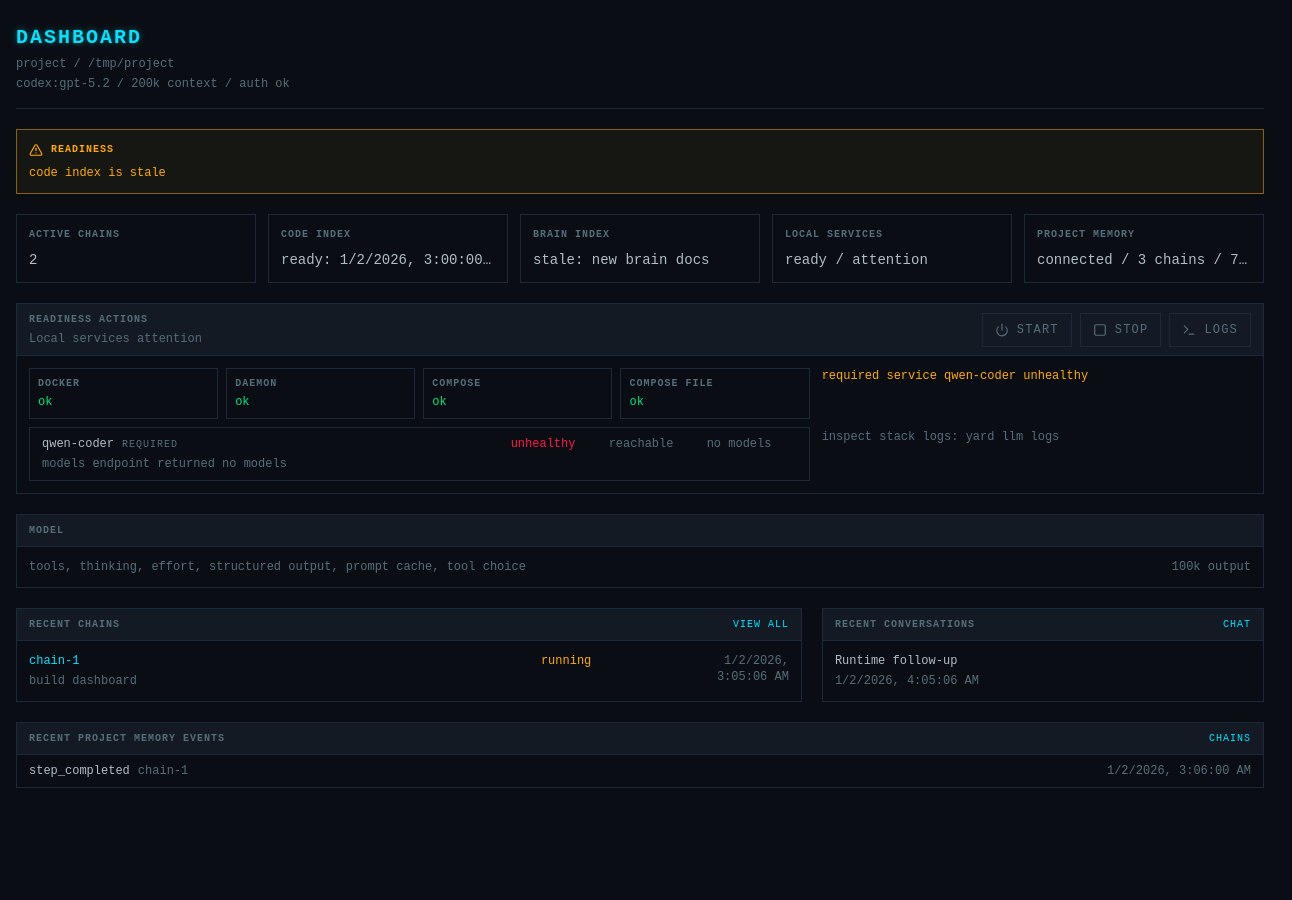
DashboardPage › runs local service readiness actions
Click the button "Start" at (1027, 330), box top-left (982, 312), bottom-right (1072, 346)
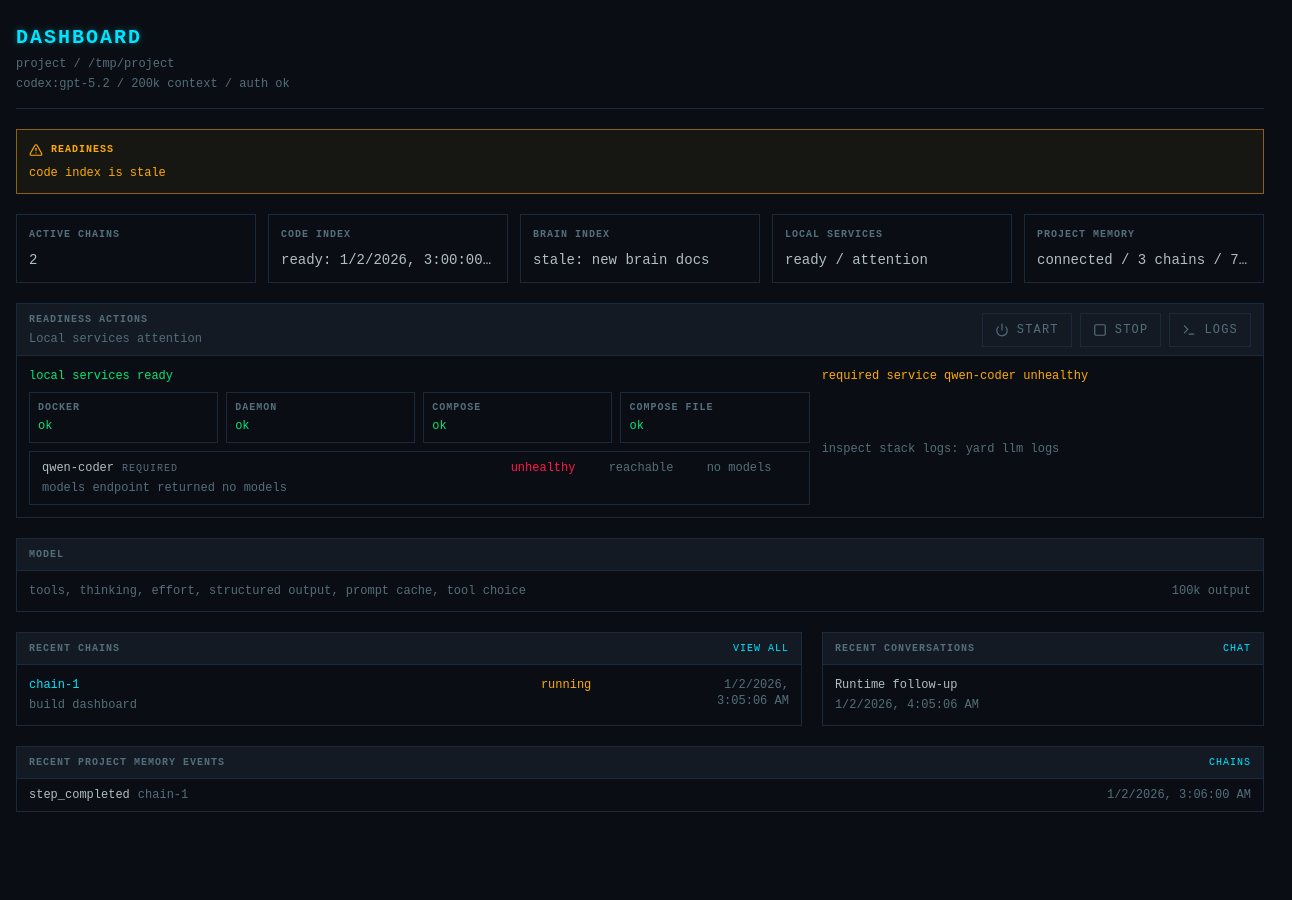
Check: the text "local services ready" is shown, box top-left (29, 369), bottom-right (173, 383)
Click the button "Logs" at (1210, 330), box top-left (1169, 312), bottom-right (1251, 346)
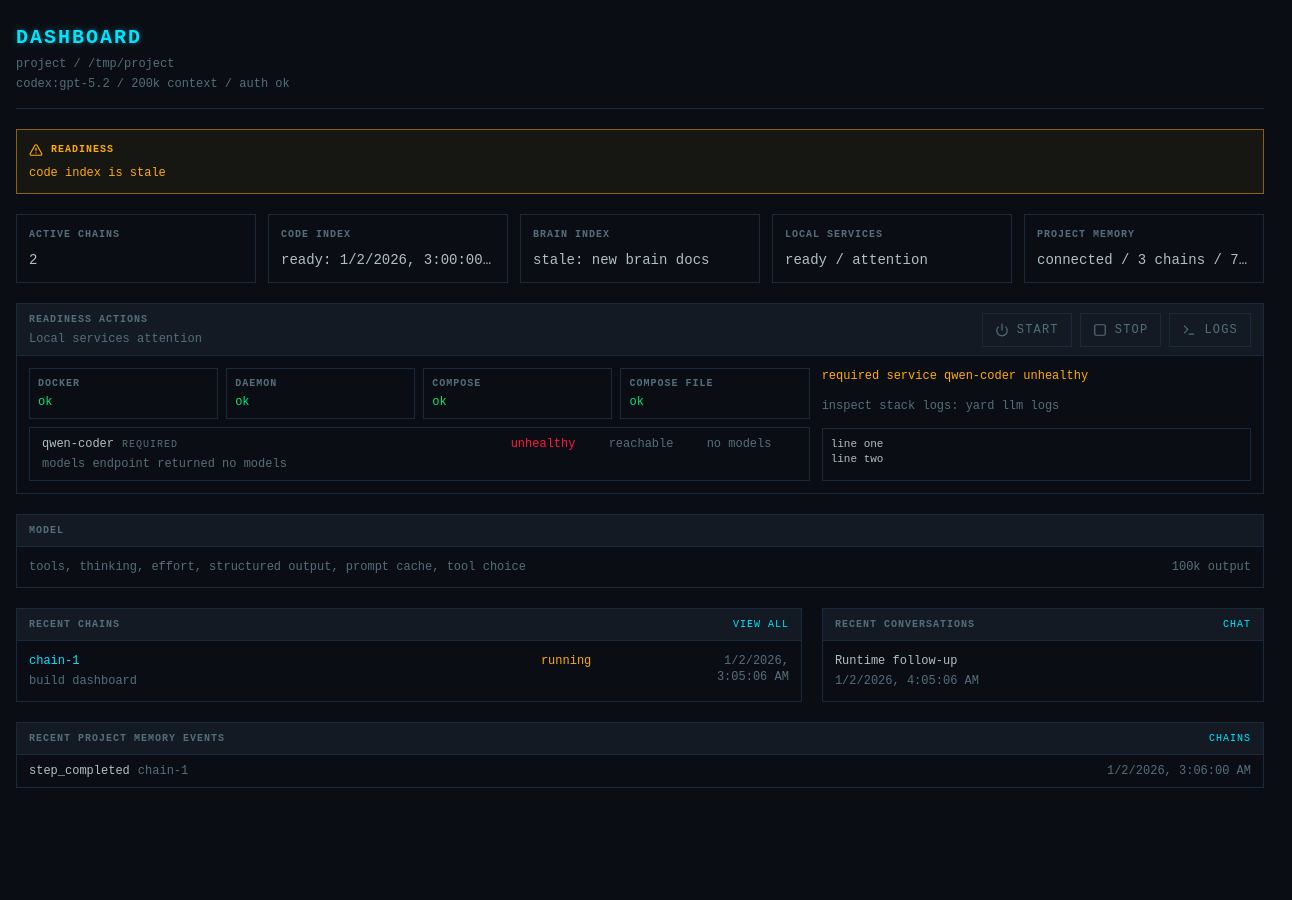
Check: the text "line one" is shown, box top-left (831, 438), bottom-right (883, 465)
